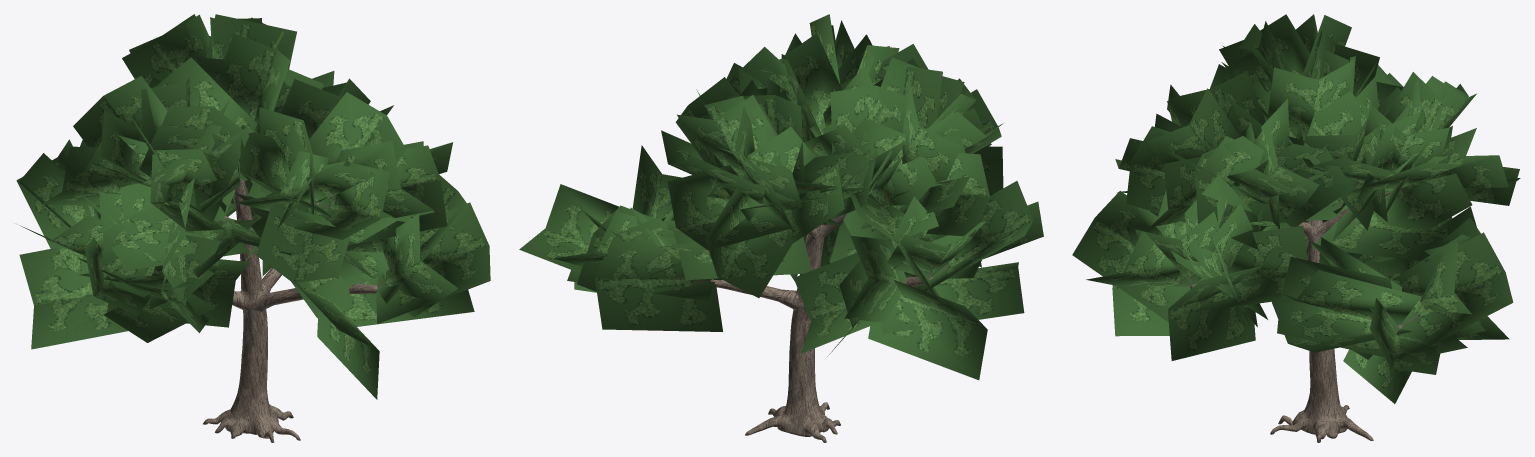
File: environment_elm1_v72.fbx
The picture shows the model from 3 angles, left to right: view 1: azimuth 30°, elevation 25°; view 2: azimuth 150°, elevation 25°; view 3: azimuth 270°, elevation 25°; orthographic projection. The views are drawn at different scales.
Visible parts, largest first — view 1: environment_elm1_v72_lod0; view 2: environment_elm1_v72_lod0; view 3: environment_elm1_v72_lod0.
Boxes of the visible parts, left/top/right/bottom form: environment_elm1_v72_lod0: left=16, top=14, right=490, bottom=442; environment_elm1_v72_lod0: left=519, top=14, right=1043, bottom=442; environment_elm1_v72_lod0: left=1072, top=14, right=1520, bottom=442.
Size of what is drawn, in the model's own units: 2930 by 2300 by 2558.
Materials: 2 (2 with a texture image).
